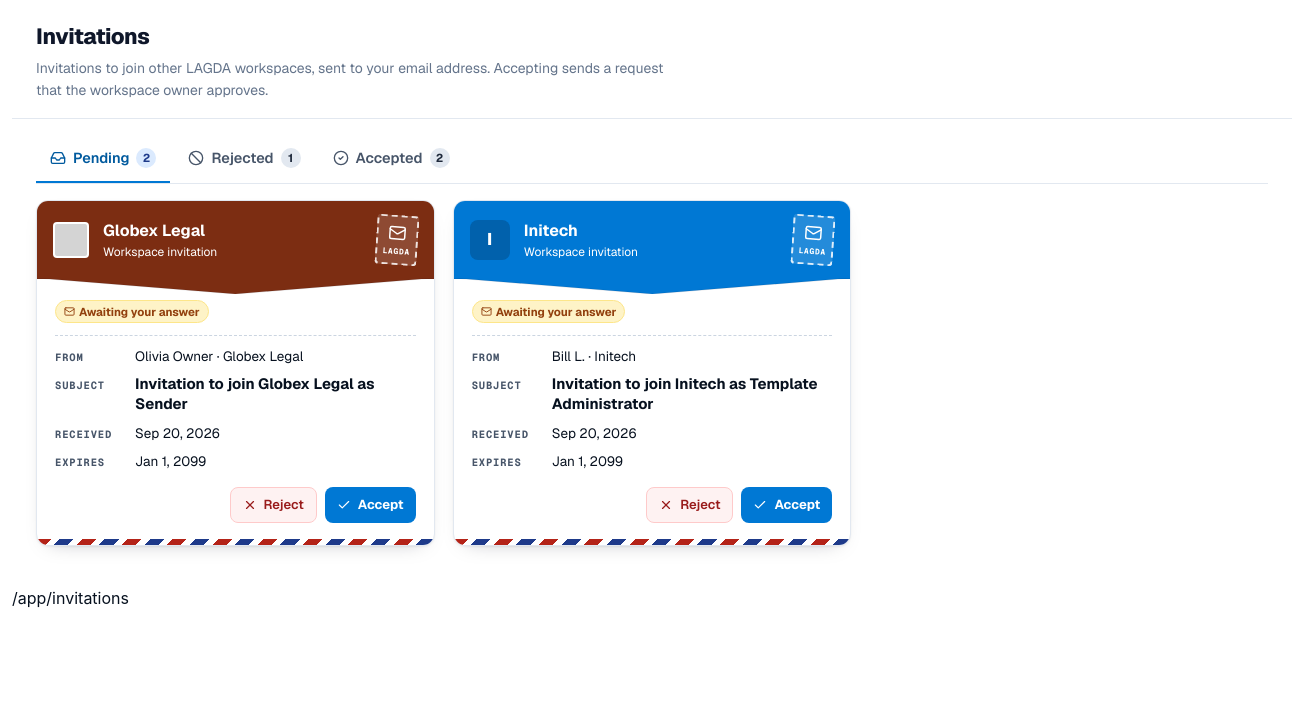
Test: Invitations page › says so when accepting finds the account already a member
Click the button with aria-label "Accept: Invitation to join Globex Legal as Sender" at (370, 505), box 325,487 -> 416,523
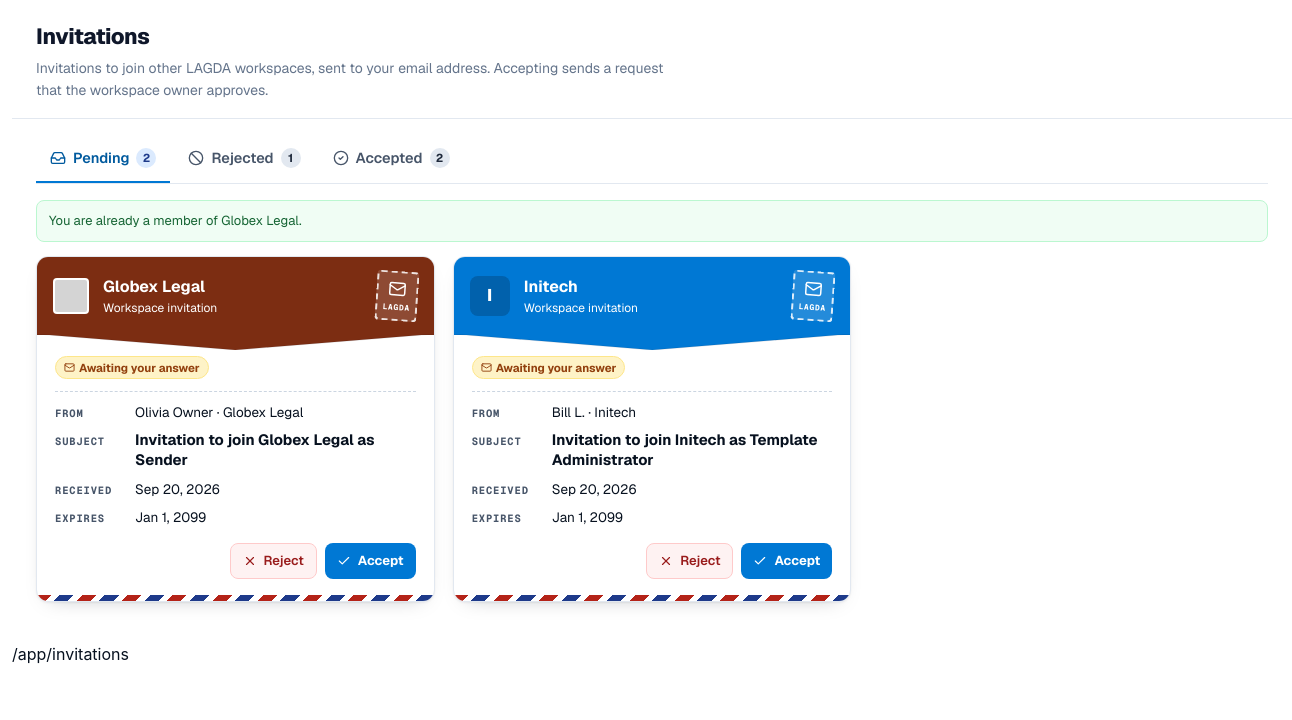
Result: the text "You are already a member of Globex Legal." is shown at 36,200 -> 1268,242
